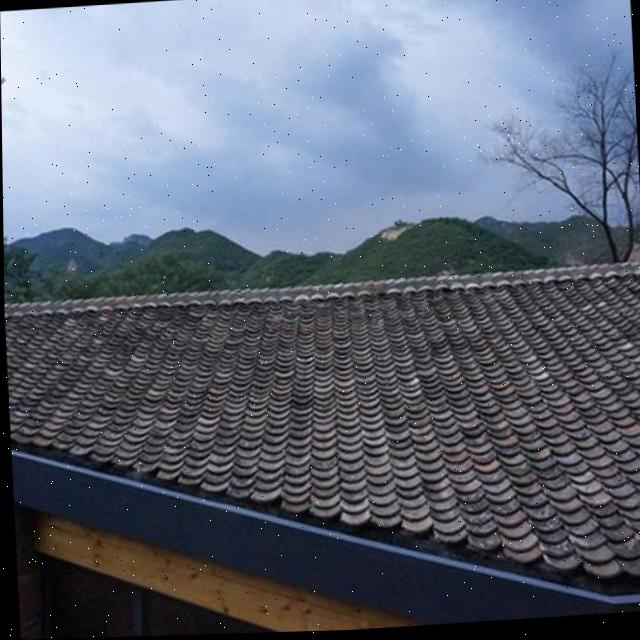building: (4, 261, 640, 640)
